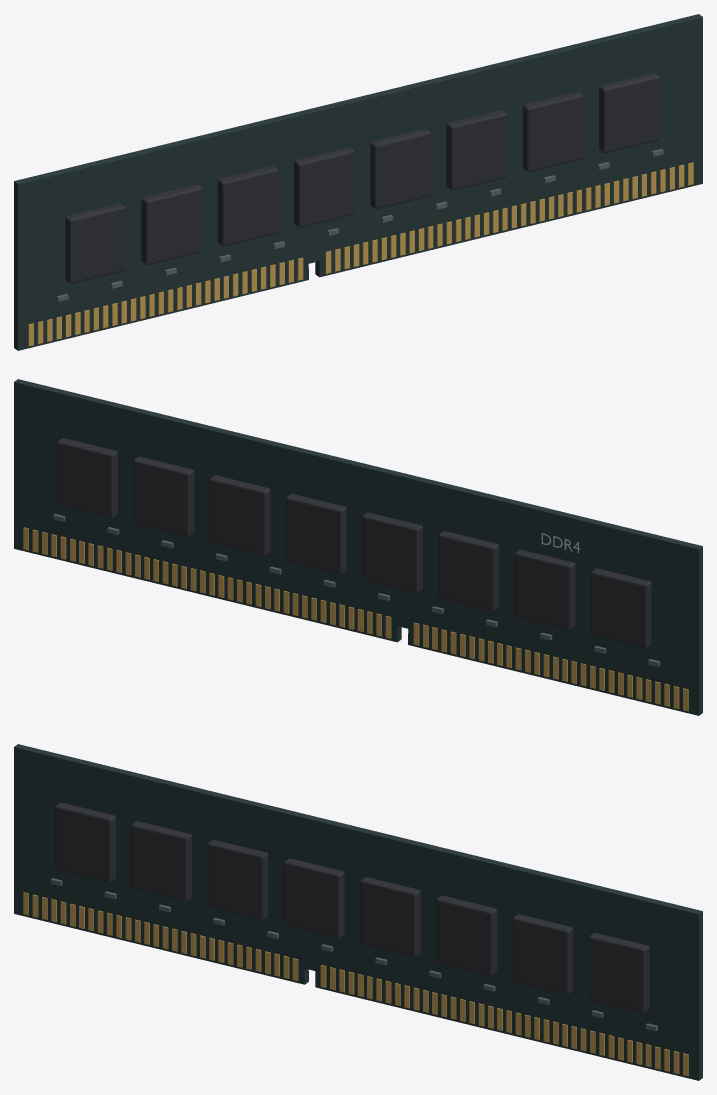
File: ram-ddr4.glb
The picture shows the model from 3 angles, top to bottom: view 1: azimuth 30°, elevation 25°; view 2: azimuth 150°, elevation 25°; view 3: azimuth 330°, elevation 25°; orthographic projection.
Parts seen in each view (by area): view 1: RAM_PCB_Deep_Slate, RAM_Chip_Ceramic, RAM_Contact_Gold, RAM_Metal_Dark_Steel; view 2: RAM_PCB_Deep_Slate, RAM_Chip_Ceramic, RAM_Contact_Gold, RAM_Metal_Dark_Steel; view 3: RAM_PCB_Deep_Slate, RAM_Chip_Ceramic, RAM_Contact_Gold, RAM_Metal_Dark_Steel.
Boxes of the visible parts, x1=… form: RAM_PCB_Deep_Slate: x1=14, y1=14, x2=702, y2=350; RAM_Chip_Ceramic: x1=65, y1=73, x2=659, y2=283; RAM_Contact_Gold: x1=28, y1=162, x2=693, y2=346; RAM_Metal_Dark_Steel: x1=56, y1=149, x2=663, y2=301; RAM_PCB_Deep_Slate: x1=14, y1=379, x2=702, y2=715; RAM_Chip_Ceramic: x1=57, y1=438, x2=651, y2=648; RAM_Contact_Gold: x1=23, y1=527, x2=688, y2=711; RAM_Metal_Dark_Steel: x1=53, y1=514, x2=660, y2=666; RAM_PCB_Deep_Slate: x1=14, y1=744, x2=702, y2=1080; RAM_Chip_Ceramic: x1=55, y1=802, x2=649, y2=1013; RAM_Contact_Gold: x1=23, y1=892, x2=688, y2=1076; RAM_Metal_Dark_Steel: x1=50, y1=878, x2=657, y2=1031.
Bounding box in the file's own units: 0.133 × 0.031 × 0.0058.
